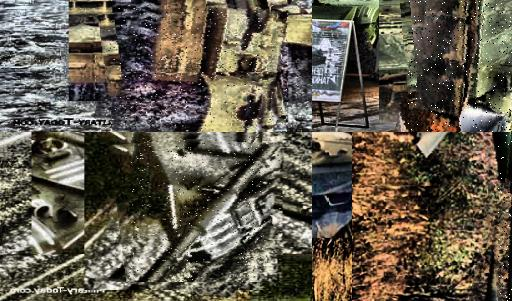tanks: (110, 6, 289, 133), (132, 138, 283, 283), (409, 1, 512, 133), (313, 1, 442, 74)
